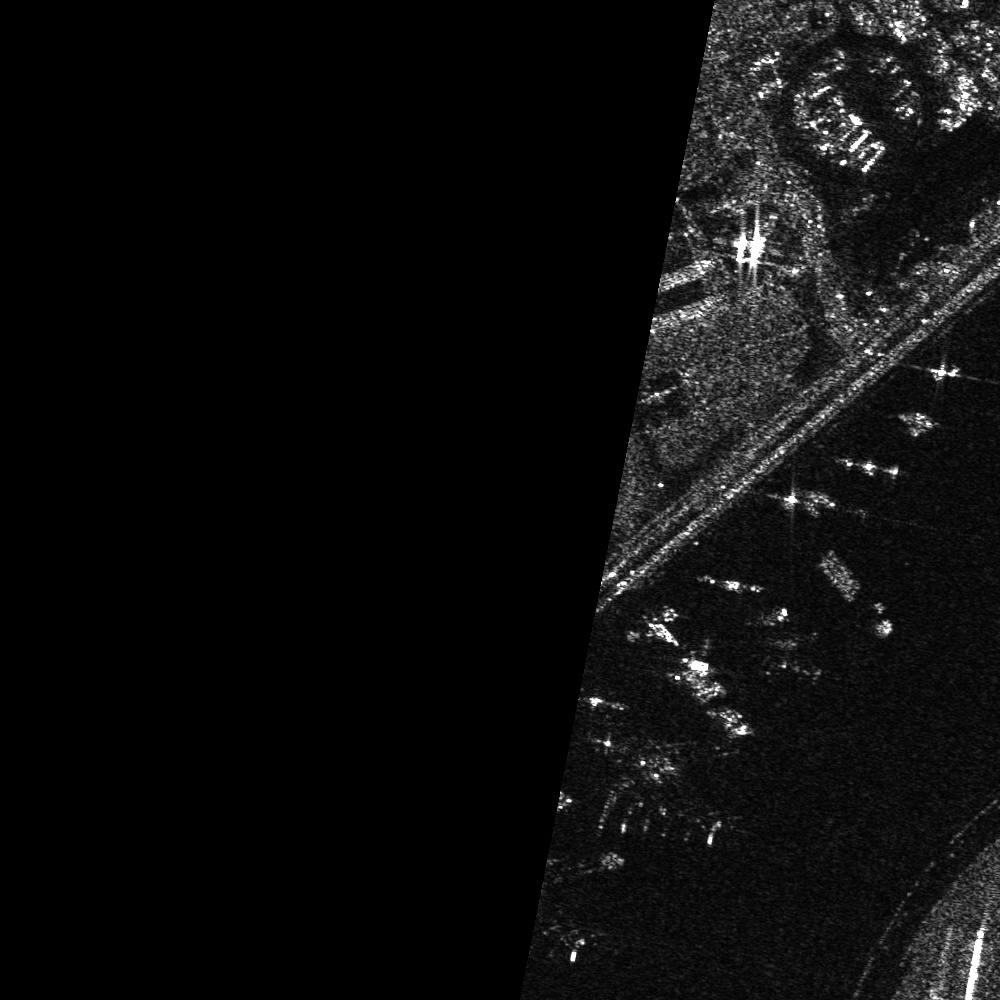Boeing787: (587, 717, 746, 855)
other: (747, 597, 834, 686)
